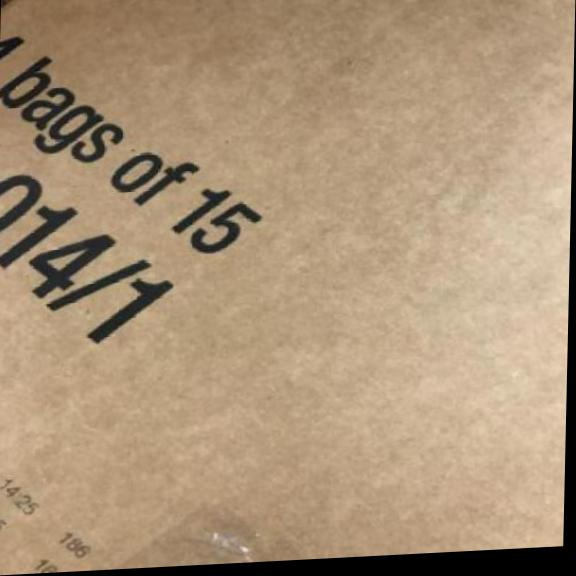Kertas: (0, 0, 576, 574), (0, 0, 575, 574)
